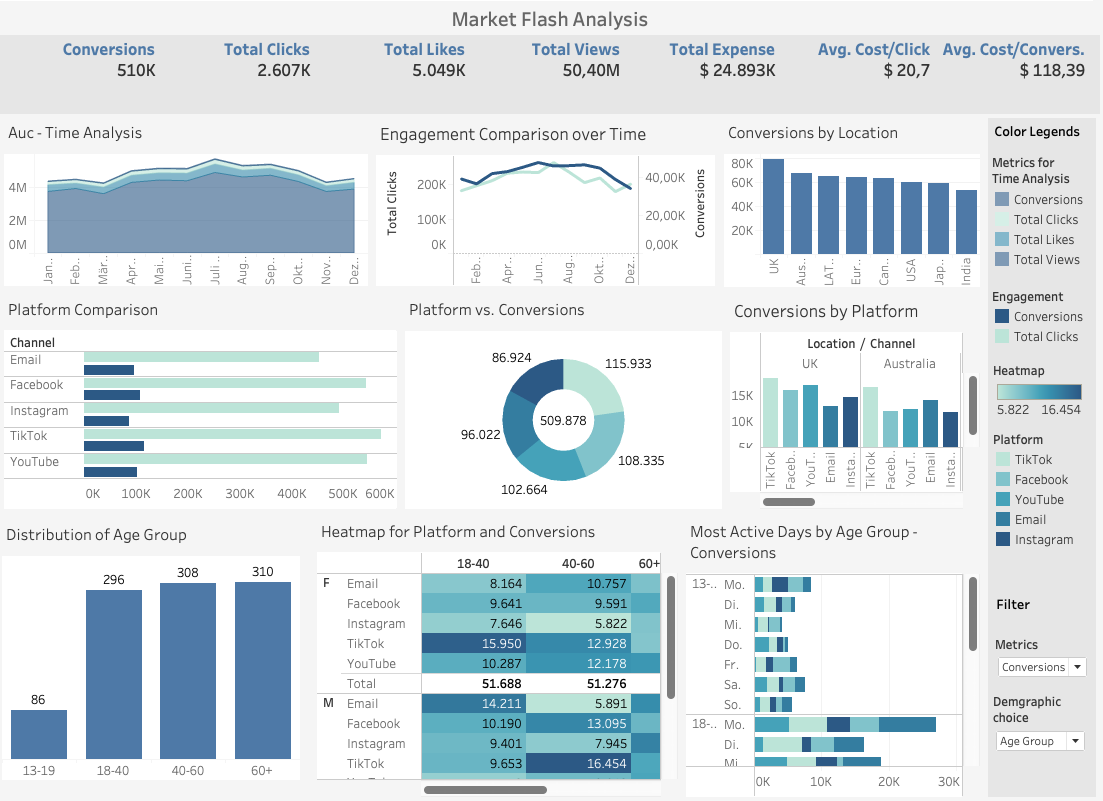

Layout of this report page (visuals, bound fields, positions):
{"tool":"tableau","page":{"name":"Dashboard 1","canvas":[1100,800],"ordinal":0},"visuals":[{"type":"worksheet","title":"Auc","mark":"Area","cols":["Start Date"],"box":[7,116,371.9,177]},{"type":"worksheet","title":"Engagement Comparison","mark":"Automatic","rows":["Clicks","Conversions"],"cols":["Start Date"],"box":[378.9,116,348,177]},{"type":"worksheet","title":"metric by location","mark":"Automatic","rows":["Calculation_1427430034290282496"],"cols":["Location"],"box":[726.9,116,263.9,177]},{"type":"text","box":[995,120,108,26]},{"type":"blank","box":[995,146,108,148]},{"type":"legend","title":"Auc","param":"[federated.13qg7dq1x308xx19l7krd1l60nxo].[:Measure Names]","box":[999,156,97,117]},{"type":"legend","title":"Engagement Comparison","param":"[federated.13qg7dq1x308xx19l7krd1l60nxo].[:Measure Names]","box":[999,290,102,58]},{"type":"worksheet","title":"Platform Comparison","mark":"Automatic","rows":["Channel"],"box":[7,293,401,222]},{"type":"worksheet","title":"Channel vs. conversions","mark":"Pie","rows":["Calculation_1225823582002589701","Calculation_1225823582002618375"],"box":[408,293,325,222]},{"type":"worksheet","title":"Metric by platform","mark":"Automatic","rows":["Calculation_1427430034290282496"],"cols":["Location","Channel"],"box":[733,293,258,222]},{"type":"legend","title":"Demographics per Platform and Conversions","param":"[federated.13qg7dq1x308xx19l7krd1l60nxo].[usr:Calculation_1427430034290282496:qk","box":[1000,364,93,76]},{"type":"legend","title":"Channel vs. conversions","param":"[federated.13qg7dq1x308xx19l7krd1l60nxo].[none:Channel:nk]","box":[1000,433,98,118]},{"type":"worksheet","title":"Demographics per Platform and Conversions","mark":"Square","rows":["Calculation_1090645224402731010","Channel"],"cols":["Calculation_1090645224399503360"],"box":[320,515,368.7,288]},{"type":"worksheet","title":"Most Active Days ","mark":"Bar","rows":["Calculation_1698631174429896704","Start Date"],"cols":["Calculation_1427430034290282496"],"box":[688.7,515,302.3,288]},{"type":"worksheet","title":"Distribution of demographics","mark":"Automatic","rows":["Campaign Number"],"cols":["Calculation_1698631174429896704"],"box":[9,522,298,260]},{"type":"text","box":[1001,584,94,44]},{"type":"parameter","param":"[Parameters].[Parameter 1]","box":[1002,638,95,44]},{"type":"parameter","param":"[Parameters].[Parameter 3]","box":[1000,695,95,66]}]}

Visuals, with their boxes in screenshot pixels (x1, y1, x2, y2), scaled from the page's 1100x800 canvas onto the 1103x801 screenshot:
"Auc" worksheet (Area marks): rect(7, 116, 380, 293)
"Engagement Comparison" worksheet: rect(380, 116, 729, 293)
"metric by location" worksheet: rect(729, 116, 994, 293)
text: rect(998, 120, 1102, 146)
blank: rect(998, 146, 1102, 294)
"Auc" legend: rect(1002, 156, 1099, 273)
"Engagement Comparison" legend: rect(1002, 290, 1102, 348)
"Platform Comparison" worksheet: rect(7, 293, 409, 516)
"Channel vs. conversions" worksheet (Pie marks): rect(409, 293, 735, 516)
"Metric by platform" worksheet: rect(735, 293, 994, 516)
"Demographics per Platform and Conversions" legend: rect(1003, 364, 1096, 441)
"Channel vs. conversions" legend: rect(1003, 434, 1101, 552)
"Demographics per Platform and Conversions" worksheet (Square marks): rect(321, 516, 691, 800)
"Most Active Days " worksheet (Bar marks): rect(691, 516, 994, 800)
"Distribution of demographics" worksheet: rect(9, 523, 308, 783)
text: rect(1004, 585, 1098, 629)
parameter: rect(1005, 639, 1100, 683)
parameter: rect(1003, 696, 1098, 762)
